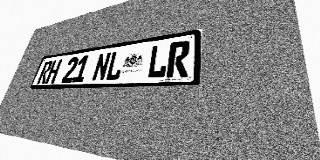1: (71, 55, 91, 82)
2: (61, 56, 80, 83)
H: (45, 59, 62, 84)
L: (146, 43, 170, 79), (105, 50, 126, 81)
N: (91, 52, 112, 81)
R: (166, 40, 191, 78), (36, 60, 53, 84)
